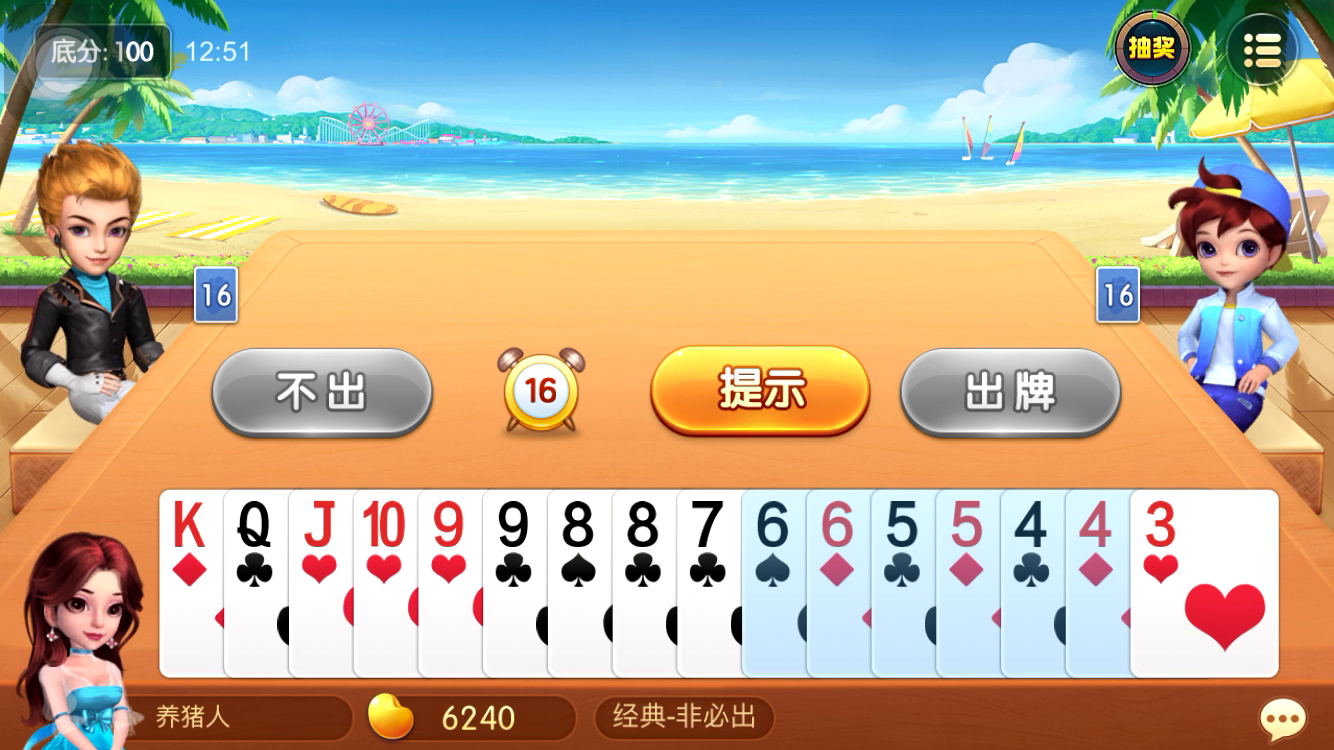J: (294, 496, 345, 553)
K: (164, 495, 215, 555)
Q: (231, 498, 279, 557)
eight: (554, 497, 605, 556), (619, 497, 669, 557)
five: (942, 497, 992, 555), (880, 496, 926, 556)
four: (1004, 491, 1066, 554), (1071, 497, 1120, 556)
nine: (487, 496, 539, 557), (424, 496, 474, 553)
seven: (682, 496, 732, 557)
six: (747, 495, 800, 556), (811, 498, 862, 555)
ten: (356, 496, 413, 554)
three: (1134, 496, 1187, 553)
